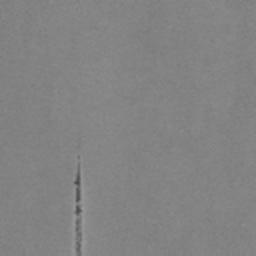Slag inclusion: (74, 164, 82, 256)
